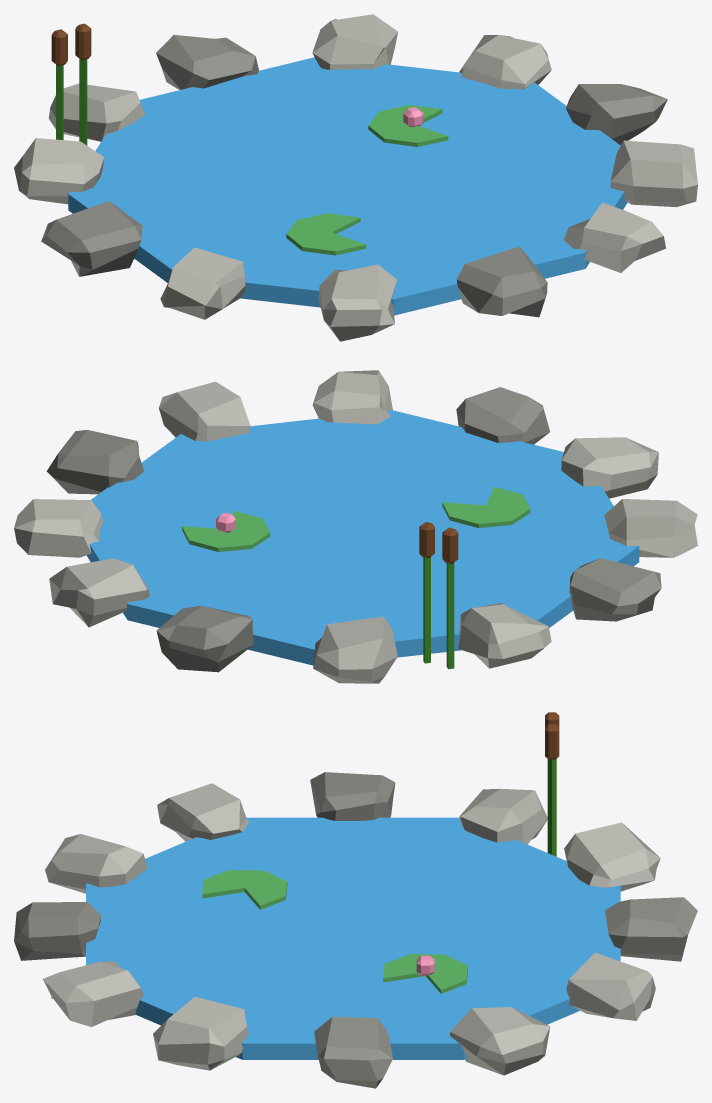
File: Pond.fbx
3 renders of one model, top to bottom at view 1: azimuth 30°, elevation 25°; view 2: azimuth 150°, elevation 25°; view 3: azimuth 270°, elevation 25°, orthographic.
Visible parts, largest first — view 1: Pond; view 2: Pond; view 3: Pond.
Boxes of the visible parts, x1,y1,x2,y2 form: Pond: (14, 14, 697, 341); Pond: (14, 370, 697, 683); Pond: (14, 712, 697, 1088).
Bounding box in the file's own units: 7.64 × 1.78 × 7.57.
1 material, 1 textured.
